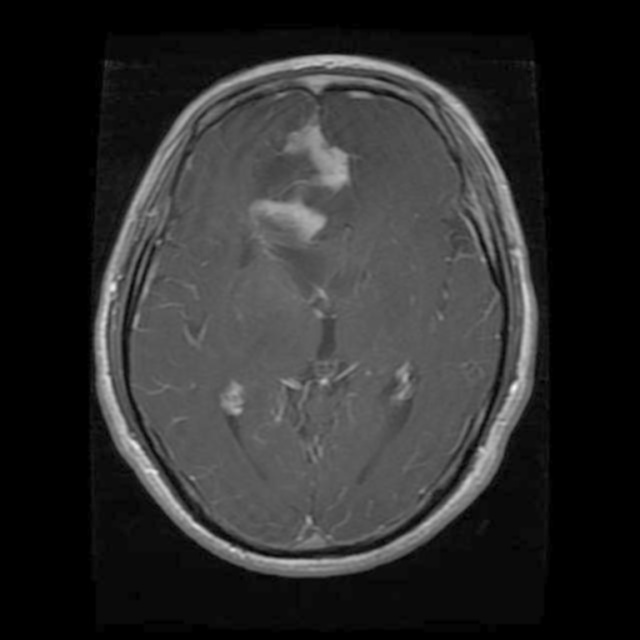pituitary tumor: (284, 124, 358, 186), (246, 196, 332, 242)
